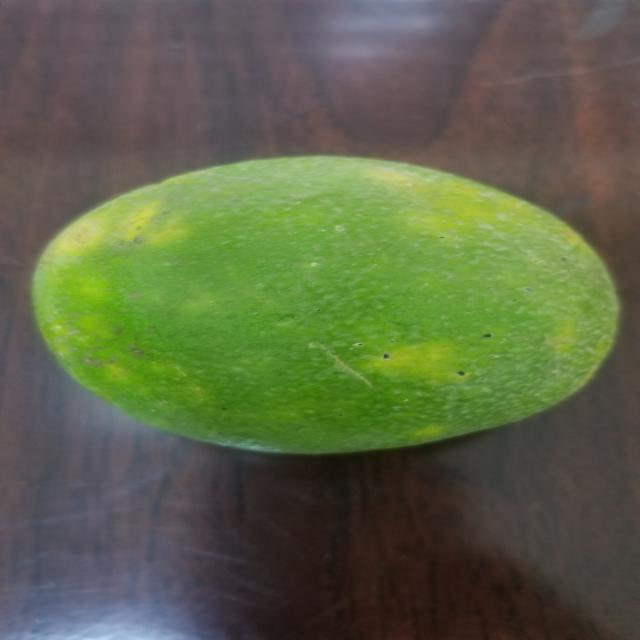Ripe orange: (13, 130, 640, 476)
